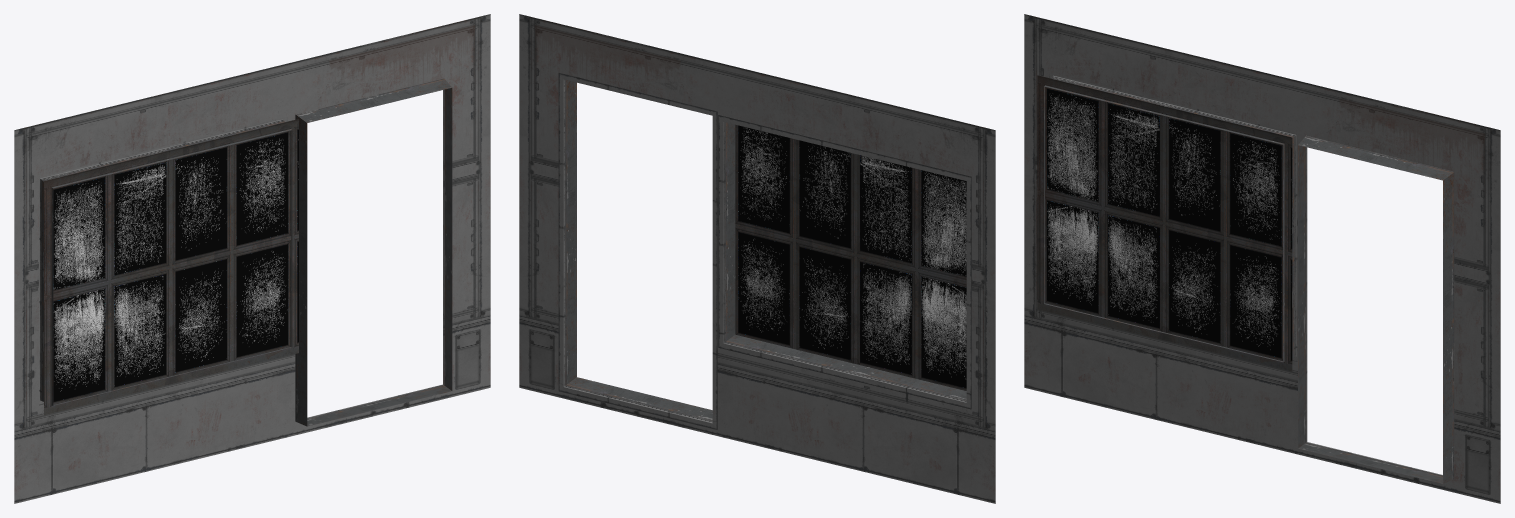
File: ARC0910215.fbx
The picture shows the model from 3 angles, left to right: view 1: azimuth 30°, elevation 25°; view 2: azimuth 150°, elevation 25°; view 3: azimuth 330°, elevation 25°; orthographic projection.
Visible parts, largest first — view 1: smARC0910215; view 2: smARC0910215; view 3: smARC0910215.
Part boxes in pixels (x1,y1,x2,y2): smARC0910215: [14, 14, 490, 503]; smARC0910215: [519, 14, 995, 503]; smARC0910215: [1024, 14, 1500, 503].
Size of the model in its own units: 400 by 300 by 16.53.
1 material, 1 textured.
